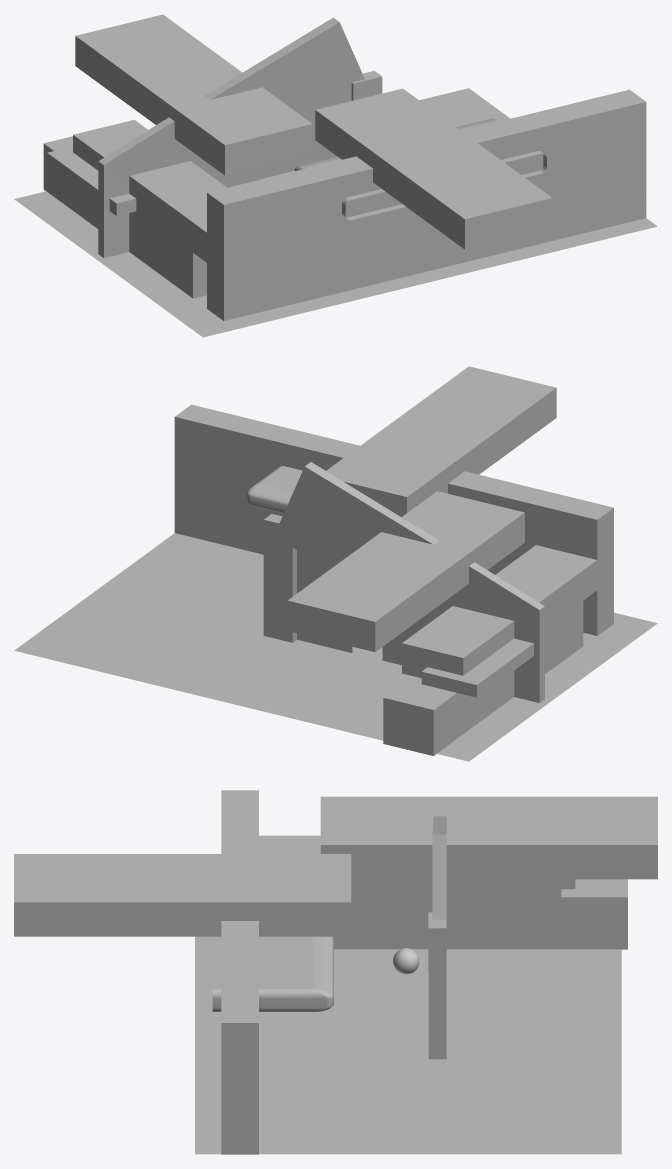
The model's file is home.glb.
The picture shows the model from 3 angles, top to bottom: view 1: azimuth 30°, elevation 25°; view 2: azimuth 150°, elevation 25°; view 3: azimuth 270°, elevation 25°; orthographic projection. The views are drawn at different scales.
Parts seen in each view (by area): view 1: homelightblocker_geo, floor_geo; view 2: homelightblocker_geo, floor_geo; view 3: homelightblocker_geo, floor_geo, world_geo.
Boxes of the visible parts, <box> form: homelightblocker_geo: <box>43,14,646,320</box>; floor_geo: <box>14,88,657,337</box>; homelightblocker_geo: <box>174,366,613,756</box>; floor_geo: <box>14,533,657,761</box>; homelightblocker_geo: <box>14,790,657,1154</box>; floor_geo: <box>195,936,621,1154</box>; world_geo: <box>393,948,419,974</box>.
Bounding box in the file's own units: 31.41 × 11.86 × 34.13.
Materials: 3 (1 with a texture image).
